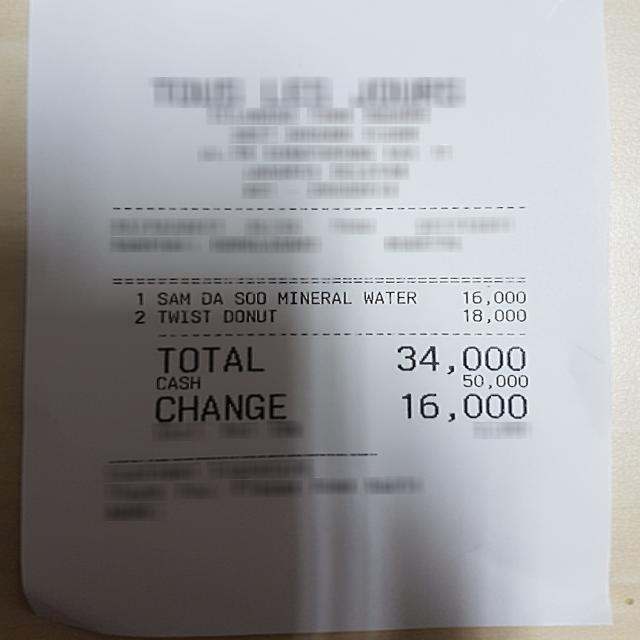kertas: (22, 0, 612, 637)
